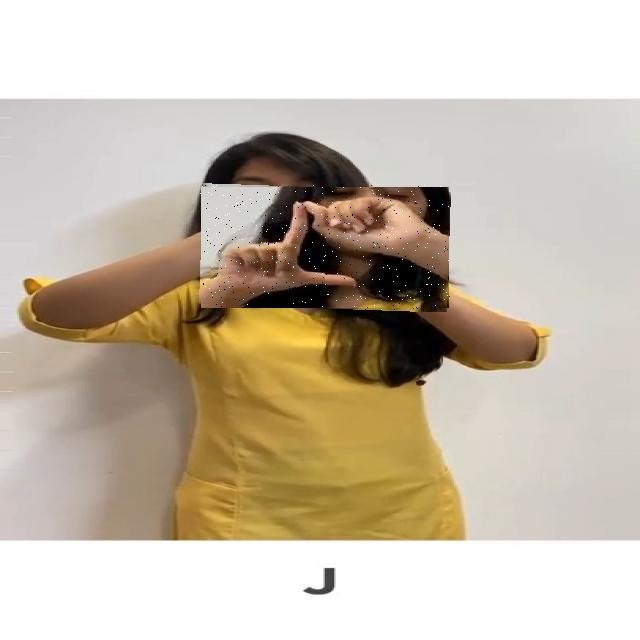J: (200, 185, 450, 310)
